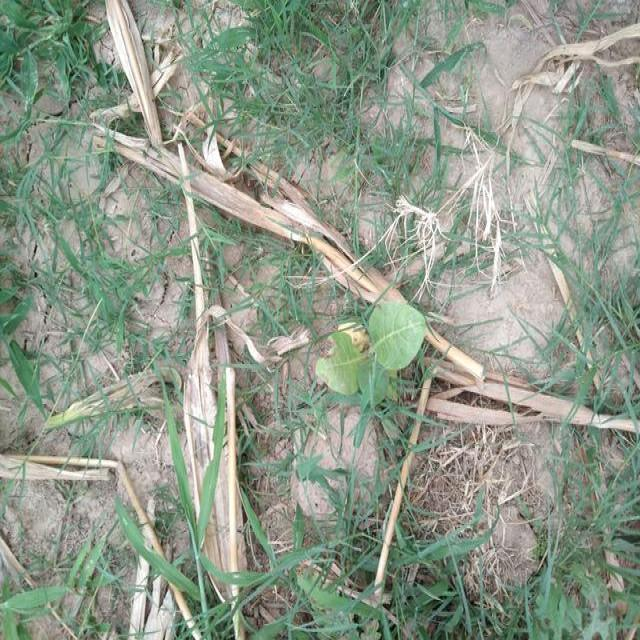crop: (312, 283, 424, 412)
